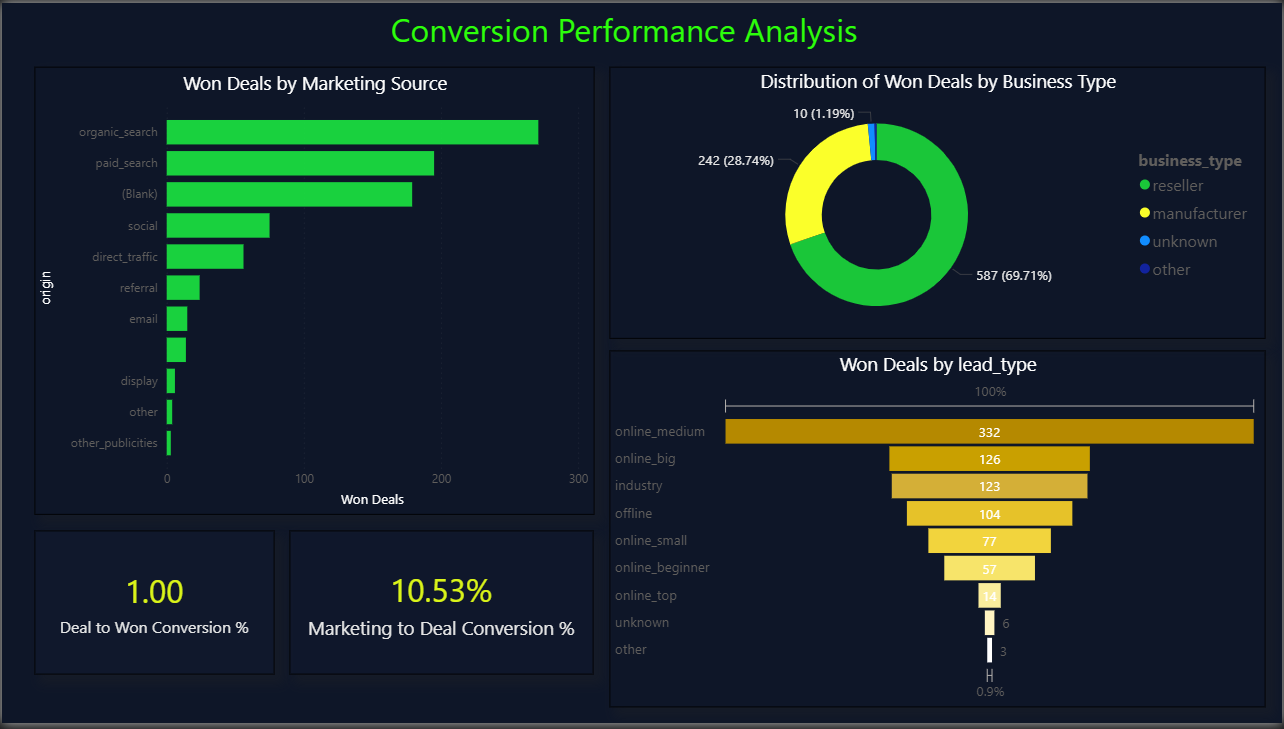

The dashboard page shown, as its layout file describes it:
{"tool":"powerbi","page":{"name":"Conversion Performance Analysis","canvas":[1280,720],"ordinal":1},"visuals":[{"type":"textbox","box":[384,0,496,64],"z":0},{"type":"clusteredBarChart","title":"Won Deals by Marketing Source","fields":{"Y":["cleaned_data.Won Deals"],"Category":["marketing_leads.origin"]},"box":[32,64,560,448],"z":1000},{"type":"donutChart","title":"Distribution of Won Deals by Business Type","fields":{"Y":["cleaned_data.Won Deals"],"Category":["cleaned_data.business_type"]},"box":[608,64,656,272],"z":2000},{"type":"card","fields":{"Values":["cleaned_data.Deal to Won Conversion %"]},"box":[32,528,240,144],"z":3000},{"type":"card","fields":{"Values":["cleaned_data.Marketing to Deal Conversion %"]},"box":[288,528,304,144],"z":5000},{"type":"funnel","fields":{"Category":["cleaned_data.lead_type"],"Y":["cleaned_data.Won Deals"]},"box":[607.9,348.1,655.6,356.4],"z":6000}]}

Visuals, with their boxes in screenshot pixels (x1, y1, x2, y2), scaled from the page's 1280x720 canvas onto the 1284x729 screenshot:
textbox: locate(385, 0, 883, 65)
"Won Deals by Marketing Source" clusteredBarChart: locate(32, 65, 594, 518)
"Distribution of Won Deals by Business Type" donutChart: locate(610, 65, 1268, 340)
card - cleaned_data.Deal to Won Conversion %: locate(32, 535, 273, 680)
card - cleaned_data.Marketing to Deal Conversion %: locate(289, 535, 594, 680)
funnel - cleaned_data.lead_type x cleaned_data.Won Deals: locate(610, 352, 1267, 713)
